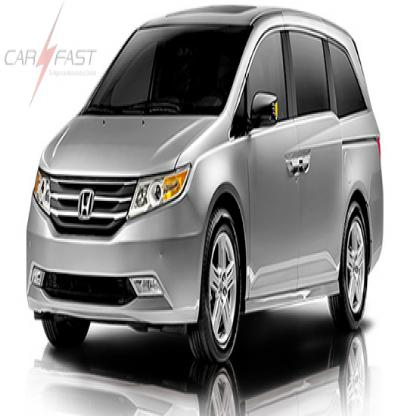Vehicle: (24, 2, 387, 373)
